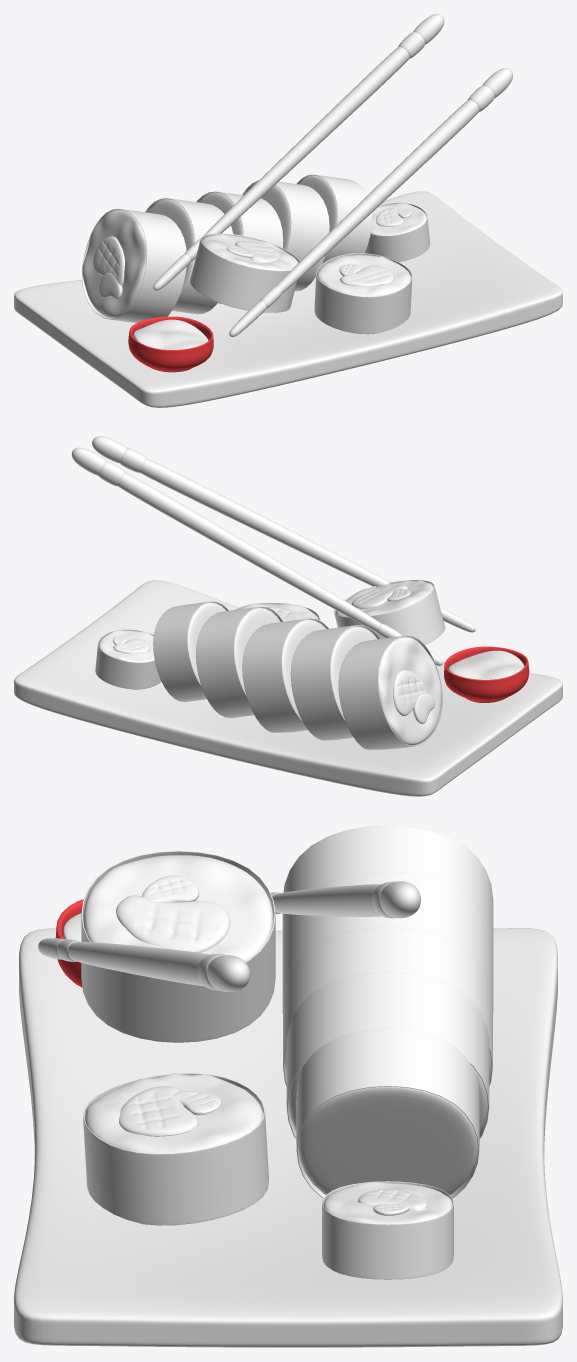
File: sushi-3d-animated-icon-906883803396.glb
The picture shows the model from 3 angles, top to bottom: view 1: azimuth 30°, elevation 25°; view 2: azimuth 150°, elevation 25°; view 3: azimuth 270°, elevation 25°; orthographic projection. The views are drawn at different scales.
Parts seen in each view (by area): view 1: Cube, Cube.018, Cube.019, Cube.002, Cube.022, Cube.008, Cube.001, Cube.010, Cube.020, Cube.005, Cube.012, Cube.004 (+12 smaller); view 2: Cube, Cube.019, Cube.018, Cube.002, Cube.004, Cube.007, Cube.010, Cube.001, Cube.012, Cube.022, Cube.020, Cube.014 (+10 smaller); view 3: Cube, Cube.011, Cube.008, Cube.010, Cube.022, Cube.012, Cube.007, Cube.021, Cube.002, Cube.004, Cube.014, Cube.005 (+10 smaller).
Boxes of the visible parts, x1,y1,x2,y2 form: Cube: [14, 191, 562, 407]; Cube.018: [229, 68, 512, 336]; Cube.019: [153, 14, 444, 290]; Cube.002: [82, 208, 186, 322]; Cube.022: [190, 233, 299, 312]; Cube.008: [314, 253, 412, 334]; Cube.001: [82, 210, 146, 318]; Cube.010: [242, 180, 329, 291]; Cube.020: [128, 316, 213, 372]; Cube.005: [317, 255, 411, 296]; Cube.012: [296, 174, 372, 263]; Cube.004: [145, 198, 233, 314]; Cube: [14, 580, 562, 796]; Cube.019: [71, 447, 442, 665]; Cube.018: [92, 436, 475, 632]; Cube.002: [338, 635, 443, 749]; Cube.004: [290, 625, 380, 740]; Cube.007: [242, 618, 328, 732]; Cube.010: [196, 606, 283, 718]; Cube.001: [378, 637, 441, 745]; Cube.012: [153, 601, 228, 701]; Cube.022: [334, 580, 445, 644]; Cube.020: [444, 646, 529, 702]; Cube.014: [95, 629, 161, 689]; Cube: [14, 928, 562, 1347]; Cube.011: [298, 1086, 477, 1194]; Cube.008: [83, 1073, 268, 1225]; Cube.010: [286, 972, 489, 1138]; Cube.022: [81, 850, 275, 1042]; Cube.012: [296, 1028, 479, 1198]; Cube.007: [283, 927, 492, 1086]; Cube.021: [83, 855, 273, 961]; Cube.002: [282, 825, 493, 944]; Cube.004: [282, 871, 493, 1013]; Cube.014: [322, 1181, 453, 1279]; Cube.005: [85, 1073, 263, 1153].
Bounding box in the file's own units: 5.16 × 2.89 × 3.05.
